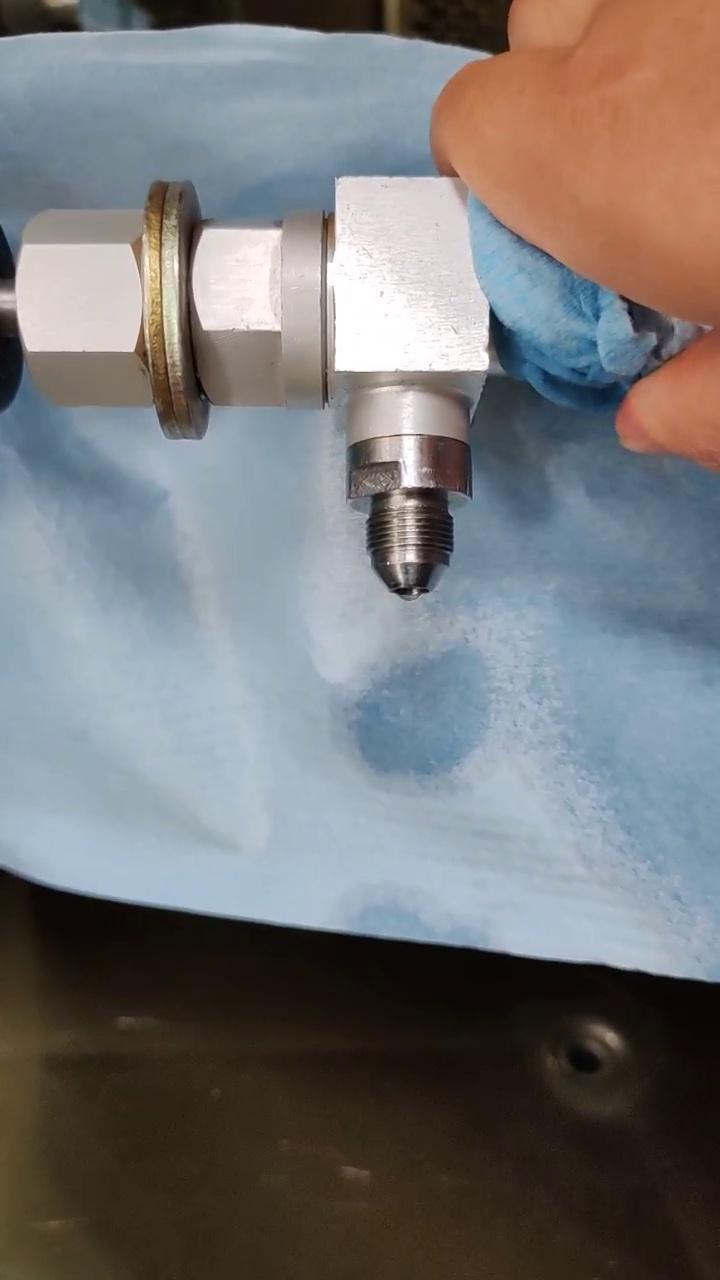water drop: (399, 591, 424, 602)
